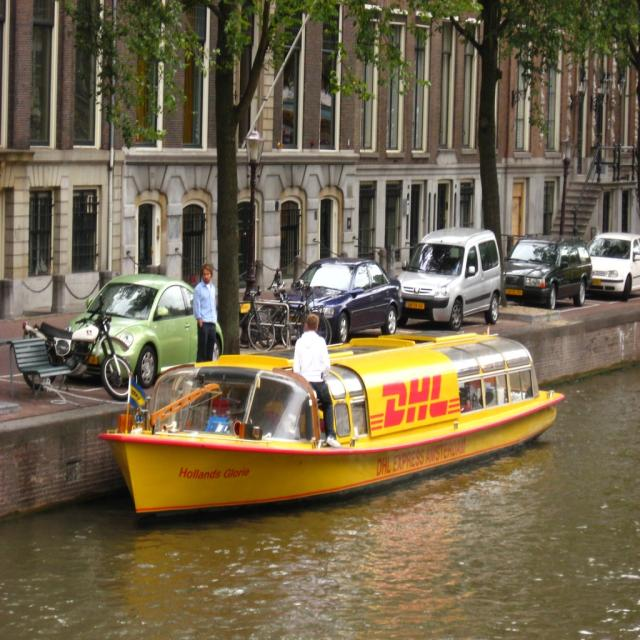dhl: (372, 373, 462, 439)
